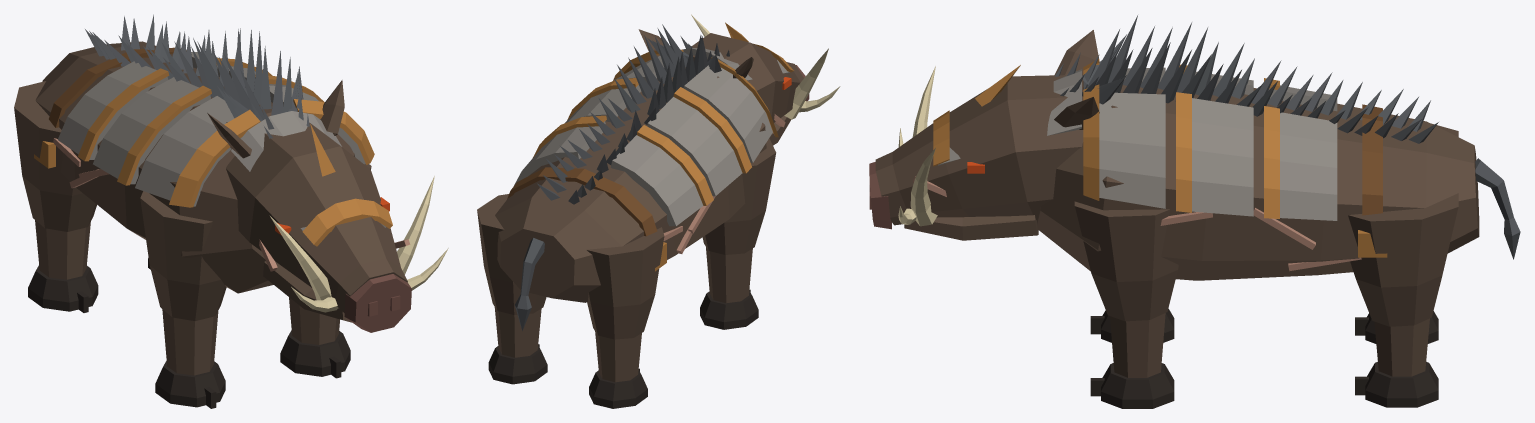
The model's file is cr-gnashjaw.glb.
The picture shows the model from 3 angles, left to right: view 1: azimuth 30°, elevation 25°; view 2: azimuth 150°, elevation 25°; view 3: azimuth 270°, elevation 25°; orthographic projection. The views are drawn at different scales.
Parts seen in each view (by area): view 1: head, body, bristles_back, armour_trim, leg_fl, leg_rl, armour_band_1, armour_band_2, armour_band_3, snout, shin_fl, shin_rl (+16 smaller); view 2: body, bristles_back, leg_rl, armour_band_3, armour_band_2, armour_trim, armour_band_1, leg_fl, head, leg_rr, girth_strap, shin_fl (+10 smaller); view 3: body, head, bristles_back, leg_rr, leg_fr, armour_band_1, armour_band_2, armour_band_3, armour_trim, shin_fr, hoof_rr, hoof_fr (+14 smaller).
Part boxes in pixels (x1,y1,x2,y2): head: [226, 123, 407, 312]; body: [35, 41, 354, 293]; bristles_back: [85, 14, 309, 138]; armour_trim: [77, 58, 374, 207]; leg_fl: [140, 191, 226, 320]; leg_rl: [14, 81, 96, 231]; armour_band_1: [135, 85, 365, 206]; armour_band_2: [93, 67, 285, 184]; armour_band_3: [57, 52, 233, 159]; snout: [344, 274, 411, 332]; shin_fl: [162, 309, 218, 375]; shin_rl: [35, 220, 90, 279]; body: [495, 67, 766, 302]; bristles_back: [537, 24, 729, 204]; leg_rl: [586, 227, 664, 339]; armour_band_3: [514, 121, 703, 226]; armour_band_2: [565, 85, 742, 196]; armour_trim: [532, 49, 778, 205]; armour_band_1: [613, 56, 772, 162]; leg_fl: [702, 138, 776, 254]; head: [691, 33, 803, 122]; leg_rr: [477, 194, 546, 314]; girth_strap: [507, 167, 657, 236]; shin_fl: [706, 247, 752, 303]; body: [1037, 80, 1479, 280]; head: [875, 74, 1083, 225]; bristles_back: [1055, 15, 1438, 143]; leg_rr: [1348, 193, 1458, 326]; leg_fr: [1074, 201, 1178, 321]; armour_band_1: [1099, 67, 1165, 208]; armour_band_2: [1192, 71, 1253, 216]; armour_band_3: [1268, 85, 1337, 220]; armour_trim: [1083, 59, 1279, 218]; shin_fr: [1110, 313, 1165, 377]; hoof_rr: [1355, 361, 1438, 407]; hoof_fr: [1090, 363, 1174, 408].
Size of what is drawn, in the model's own units: 1.75 by 2.52 by 4.43.
